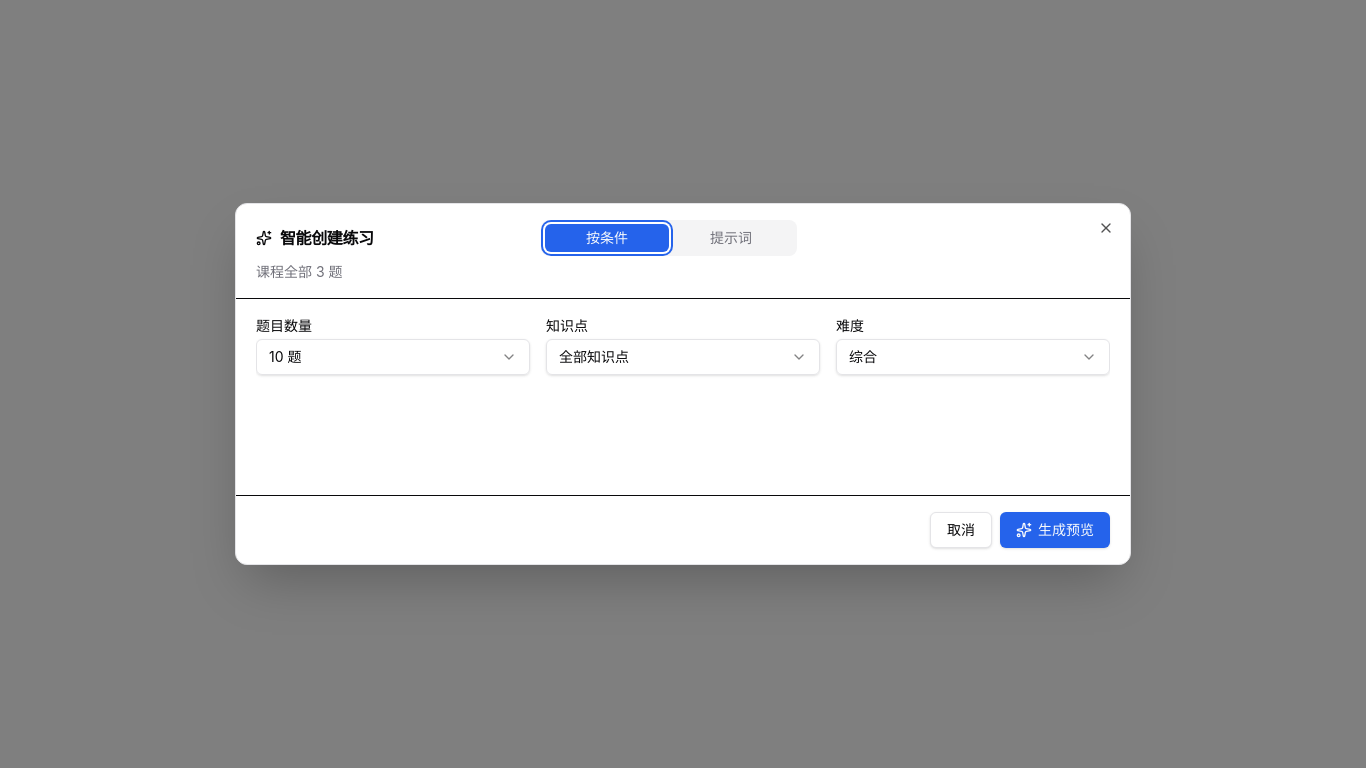
Test: SmartPracticeDialog › 知识点选择按树状展开并可选中子知识点
The width and height of the screenshot is (1366, 768).
Expected: the text "课程全部 3 题" is shown, left=256, top=263, right=342, bottom=280
// 触发按钮默认是「全部知识点」，点开后展示课程知识点树（一级默认展开）。
Click the button with aria-label "知识点：全部知识点". click: [594, 356]
box: left=546, top=339, right=820, bottom=375
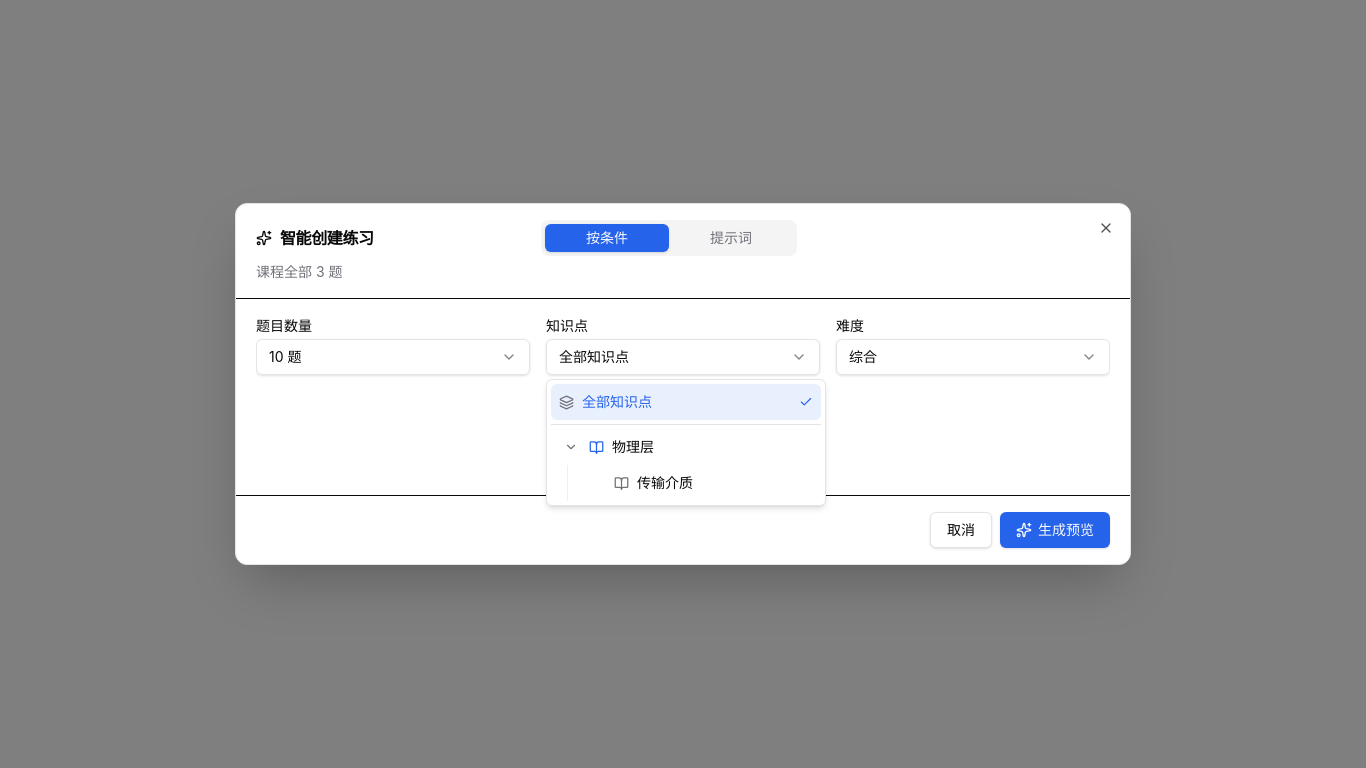
Now the text "物理层" is shown, box left=612, top=438, right=654, bottom=455
Click the button "传输介质". click: [714, 483]
box: left=608, top=465, right=821, bottom=501
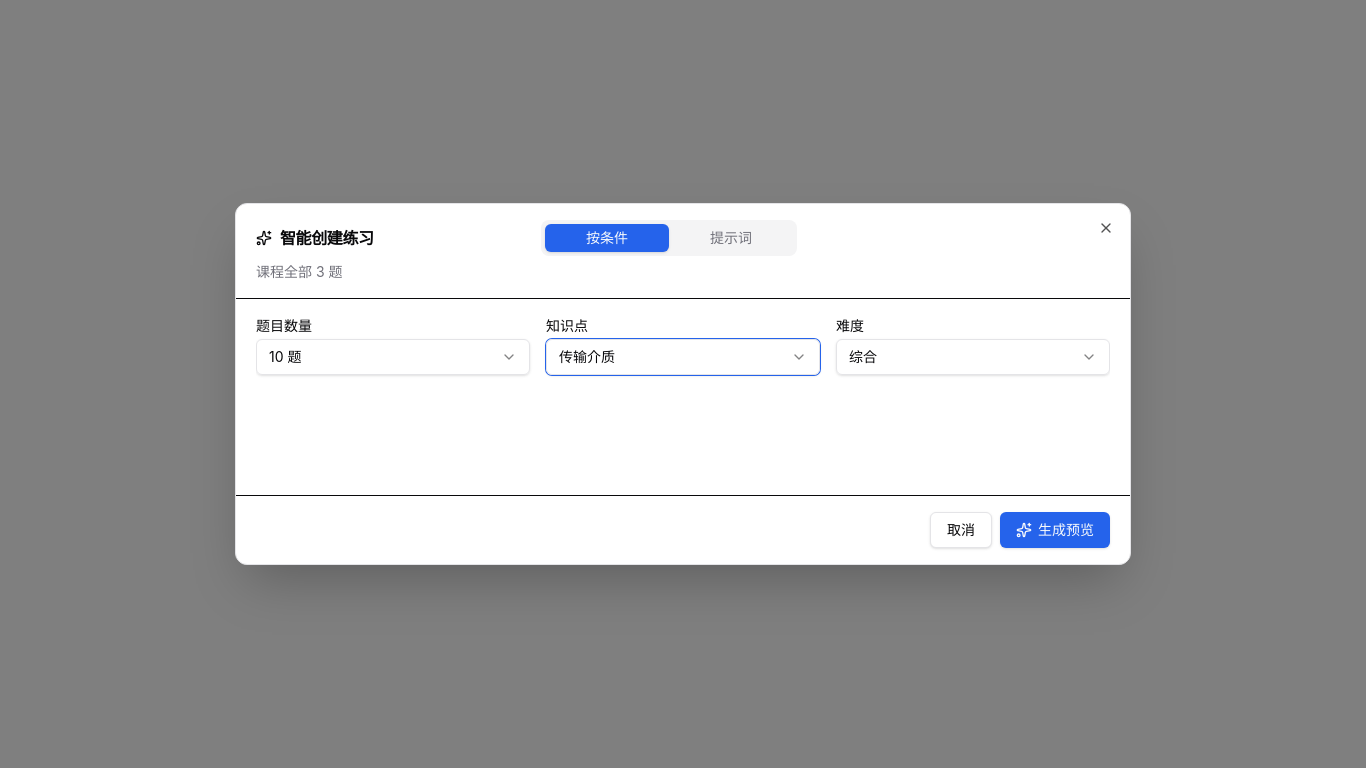
Now the button with aria-label "知识点：传输介质" is shown, box left=546, top=339, right=820, bottom=375
